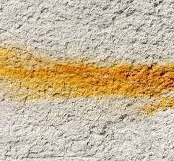Corrosion: (1, 43, 174, 101), (135, 101, 174, 115)
